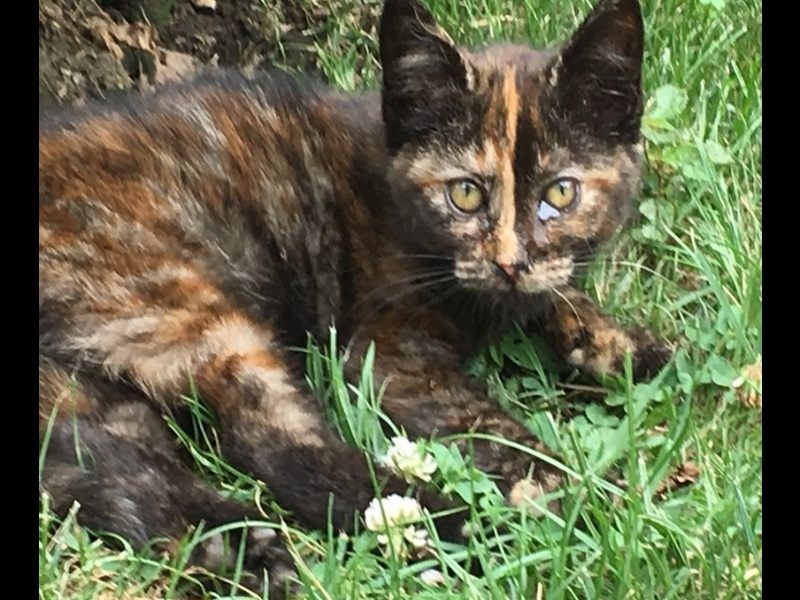cat: (42, 8, 665, 566)
